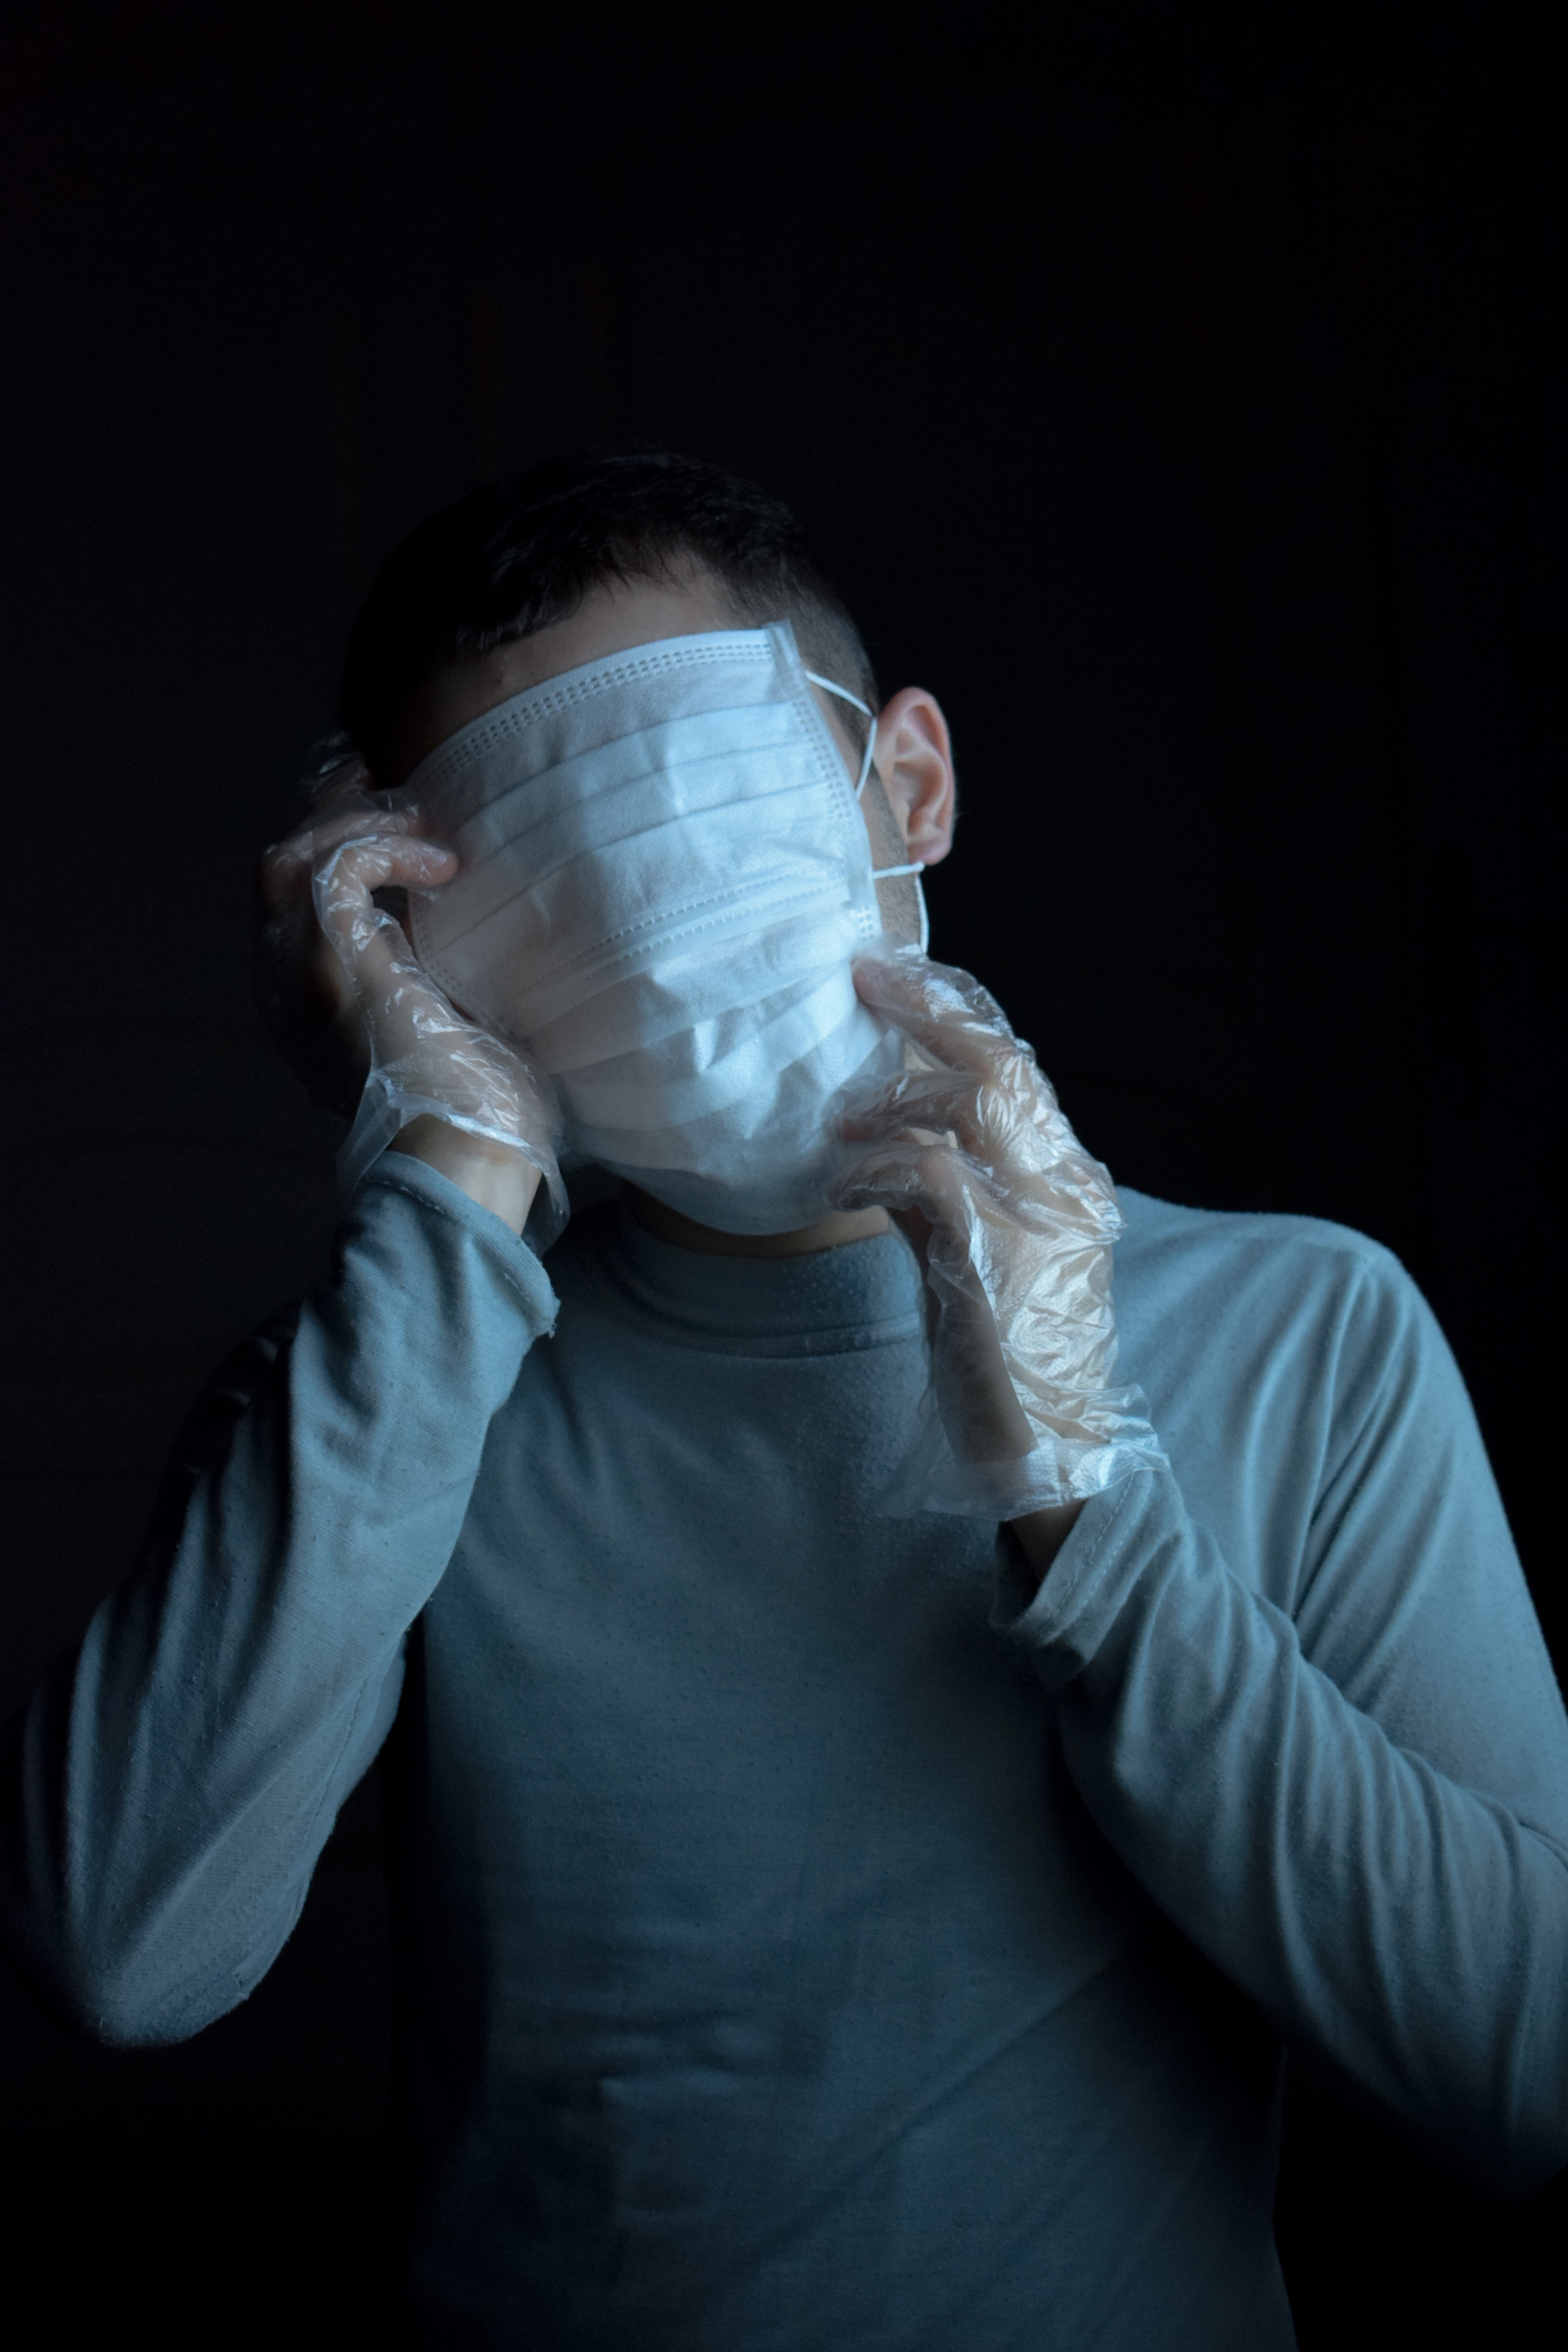mask: (339, 675, 975, 1232)
person: (91, 482, 1568, 2352)
